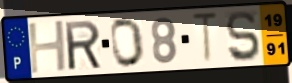8: (149, 16, 180, 66)
H: (26, 18, 70, 76)
O: (109, 16, 147, 69)
R: (63, 18, 104, 72)
S: (224, 9, 263, 64)
T: (190, 11, 221, 66)
